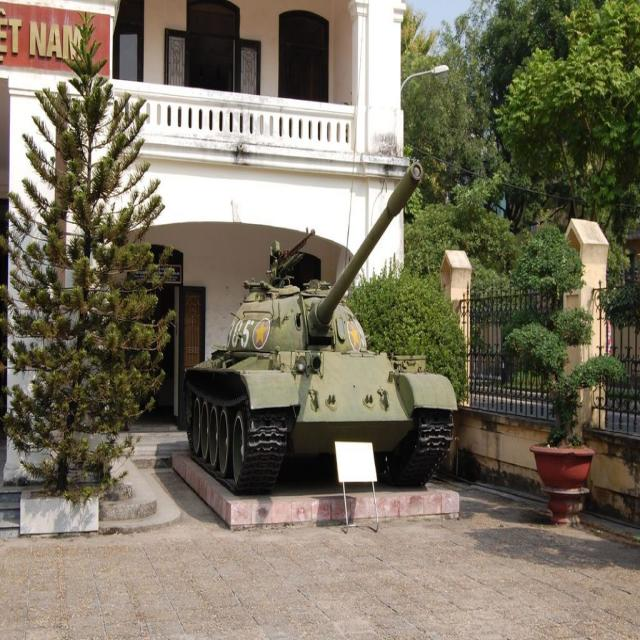tank: (180, 157, 458, 492)
